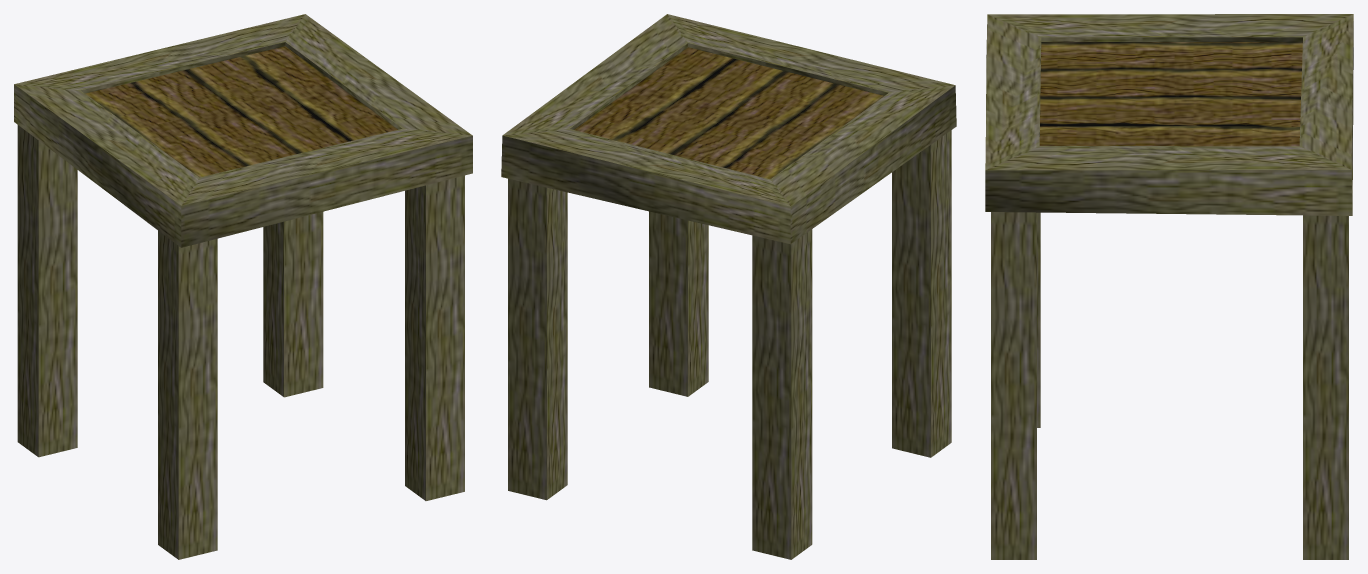
Rendered from table.obj.
3 renders of one model, left to right at view 1: azimuth 30°, elevation 25°; view 2: azimuth 150°, elevation 25°; view 3: azimuth 270°, elevation 25°, orthographic. The views are drawn at different scales.
Parts seen in each view (by area): view 1: Duplicate08, Box01, Duplicate01, Duplicate03, Box02, Duplicate02; view 2: Duplicate08, Box01, Box02, Duplicate02, Duplicate01, Duplicate03; view 3: Duplicate08, Box01, Duplicate03, Duplicate02, Duplicate01.
Boxes of the visible parts, left/top/right/bottom form: Duplicate08: left=14, top=14, right=472, bottom=247; Box01: left=85, top=46, right=397, bottom=177; Duplicate01: left=158, top=230, right=217, bottom=559; Duplicate03: left=405, top=175, right=464, bottom=500; Box02: left=17, top=125, right=77, bottom=457; Duplicate02: left=263, top=212, right=323, bottom=397; Duplicate08: left=501, top=14, right=956, bottom=244; Box01: left=574, top=47, right=883, bottom=179; Box02: left=752, top=229, right=812, bottom=559; Duplicate02: left=508, top=178, right=567, bottom=500; Duplicate01: left=892, top=130, right=951, bottom=457; Duplicate03: left=649, top=211, right=708, bottom=396; Duplicate08: left=985, top=14, right=1353, bottom=215; Box01: left=1039, top=42, right=1302, bottom=146; Duplicate03: left=991, top=212, right=1036, bottom=559; Duplicate02: left=1303, top=215, right=1348, bottom=559; Duplicate01: left=1037, top=212, right=1040, bottom=427.
Bounding box in the file's own units: 25.2 × 29.49 × 25.08.
